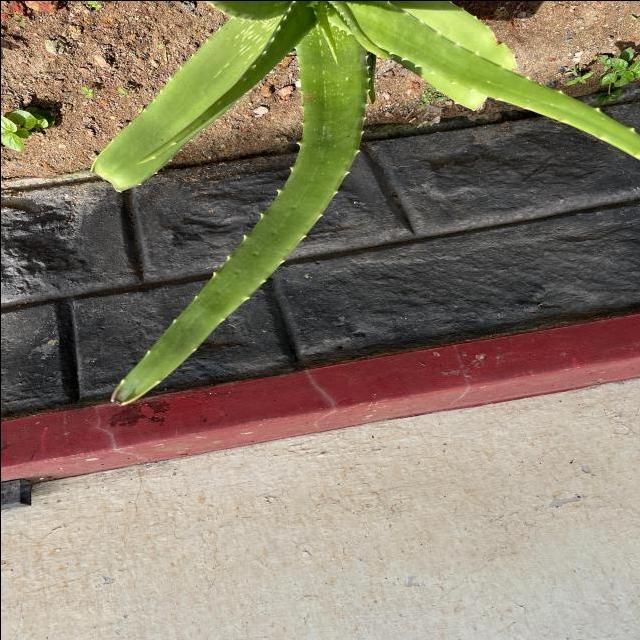Aloe vera: (107, 14, 370, 408)
